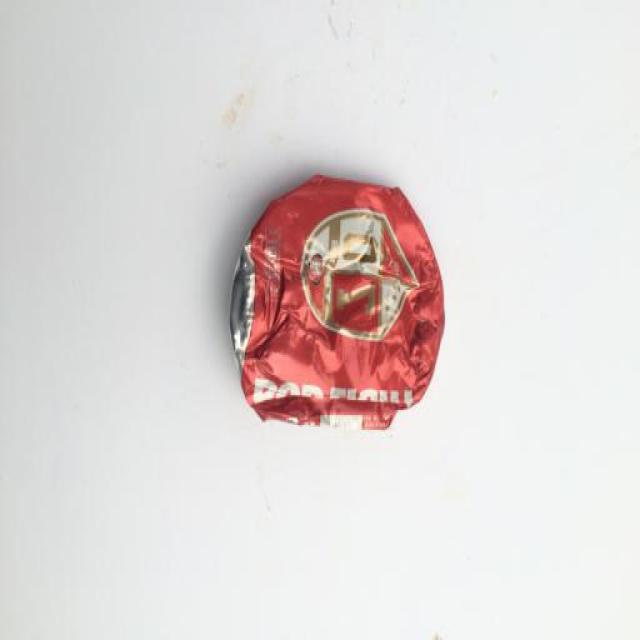Metal: (229, 175, 446, 432)
